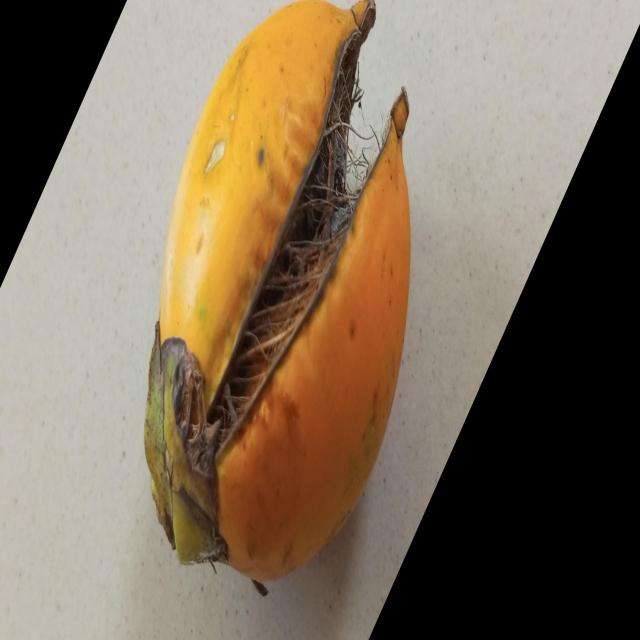damaged: (144, 0, 412, 590)
